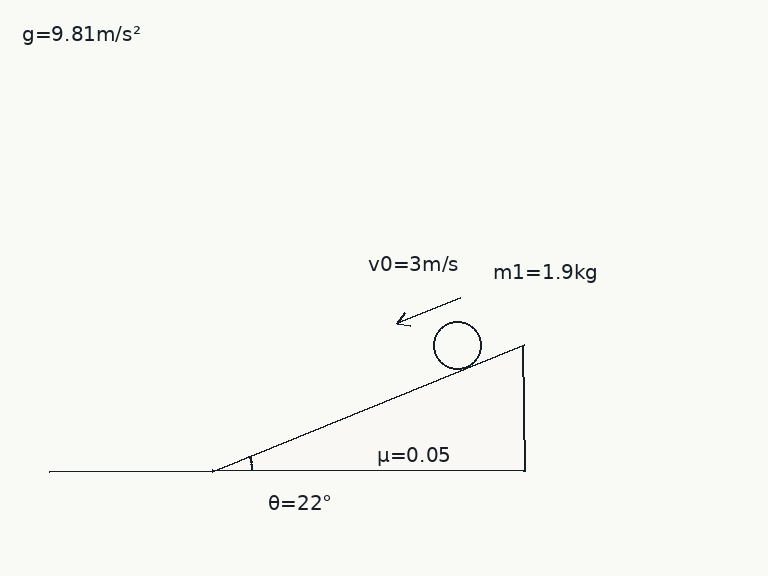ball: (431, 319, 483, 371)
ramp: (210, 342, 526, 472)
